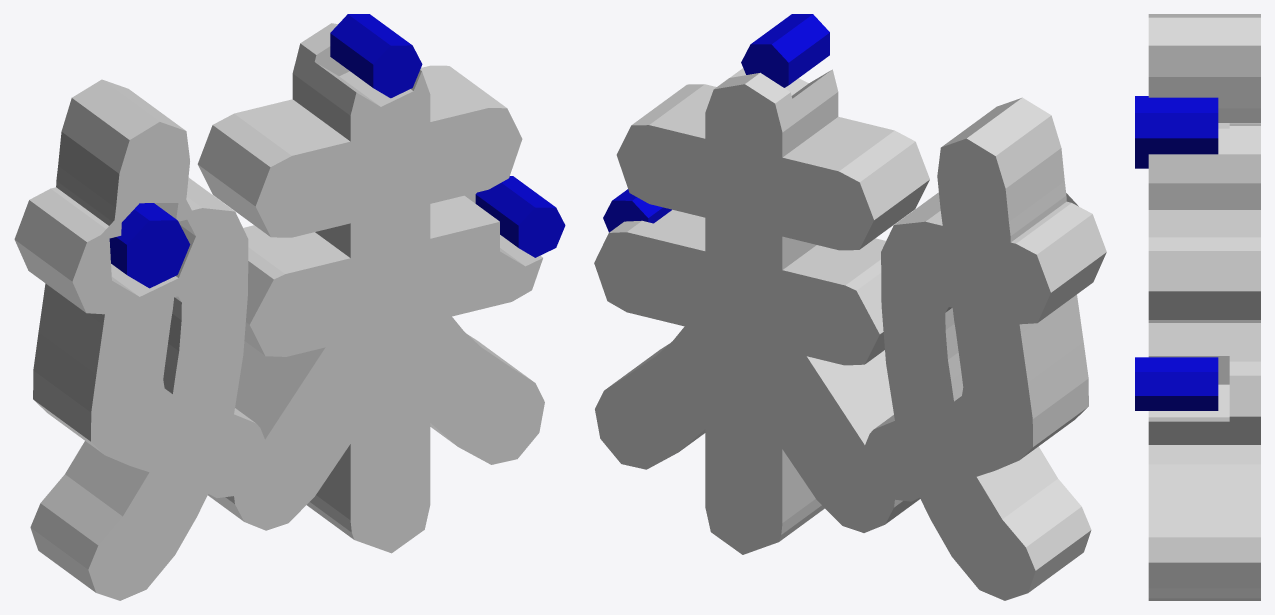
The model's file is Ch_Lite_China_妹_01.fbx.
The picture shows the model from 3 angles, left to right: view 1: azimuth 30°, elevation 25°; view 2: azimuth 150°, elevation 25°; view 3: azimuth 270°, elevation 25°; orthographic projection. The views are drawn at different scales.
Parts seen in each view (by area): view 1: sphere1; view 2: sphere1; view 3: sphere1.
Boxes of the visible parts, x1,y1,x2,y2 form: sphere1: (14, 14, 565, 600); sphere1: (594, 14, 1106, 600); sphere1: (1135, 14, 1260, 600).
Bounding box in the file's own units: 0.9692 × 0.9811 × 0.2242.
